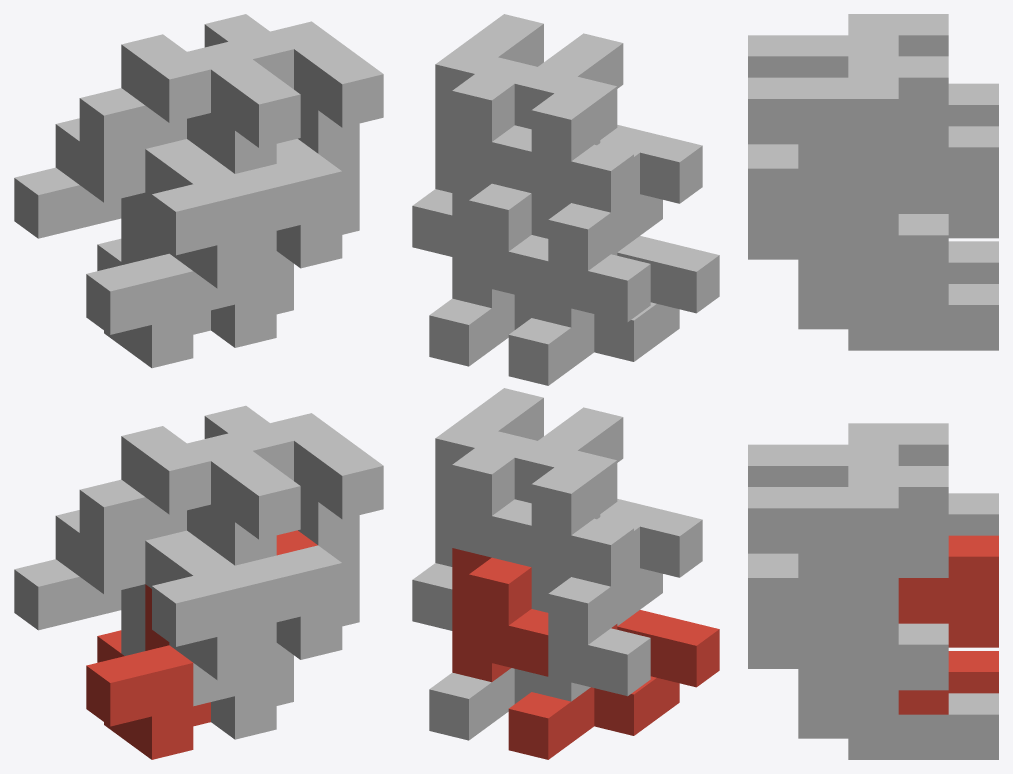
Rendered from tiling.obj.
3 renders of one model, left to right at view 1: azimuth 30°, elevation 25°; view 2: azimuth 150°, elevation 25°; view 3: azimuth 270°, elevation 25°, orthographic. The views are drawn at different scales.
Visible parts, largest first — view 1: copy_2_domain_4, copy_2_domain_2, copy_2_domain_1, copy_2_domain_3, copy_1_domain_2, copy_1_domain_4, copy_1_domain_8, copy_1_domain_6, copy_1_domain_1, copy_1_domain_3, copy_2_domain_6, copy_2_domain_8 (+4 smaller); view 2: copy_2_domain_2, copy_2_domain_4, copy_2_domain_6, copy_2_domain_8, copy_1_domain_3, copy_1_domain_1, copy_2_domain_1, copy_2_domain_3, copy_2_domain_5, copy_2_domain_7, copy_1_domain_2, copy_1_domain_4 (+4 smaller); view 3: copy_2_domain_8, copy_2_domain_6, copy_1_domain_6, copy_1_domain_8, copy_1_domain_7, copy_1_domain_5, copy_2_domain_5, copy_2_domain_7, copy_2_domain_2, copy_2_domain_4, copy_2_domain_3, copy_1_domain_3 (+2 smaller).
Part boxes in pixels (box(x1,y1,x2,y2)): copy_2_domain_4: box(79, 34, 300, 158); copy_2_domain_2: box(79, 426, 300, 550); copy_2_domain_1: box(14, 510, 234, 655); copy_2_domain_3: box(14, 118, 234, 264); copy_1_domain_2: box(152, 505, 276, 680); copy_1_domain_4: box(152, 113, 276, 288); copy_1_domain_8: box(235, 98, 359, 268); copy_1_domain_6: box(235, 489, 359, 659); copy_1_domain_1: box(86, 584, 210, 759); copy_1_domain_3: box(86, 193, 210, 368); copy_2_domain_6: box(204, 405, 383, 519); copy_2_domain_8: box(204, 14, 383, 127); copy_2_domain_2: box(514, 407, 633, 586); copy_2_domain_4: box(514, 33, 633, 212); copy_2_domain_6: box(435, 388, 543, 567); copy_2_domain_8: box(435, 14, 543, 193); copy_1_domain_3: box(508, 236, 719, 385); copy_1_domain_1: box(508, 610, 719, 759); copy_2_domain_1: box(531, 517, 650, 701); copy_2_domain_3: box(531, 143, 650, 327); copy_2_domain_5: box(452, 548, 548, 682); copy_2_domain_7: box(452, 174, 548, 308); copy_1_domain_2: box(594, 500, 702, 625); copy_1_domain_4: box(594, 126, 702, 251); copy_2_domain_8: box(748, 56, 948, 235); copy_2_domain_6: box(748, 466, 948, 644); copy_1_domain_6: box(748, 553, 948, 690); copy_1_domain_8: box(748, 144, 948, 280); copy_1_domain_7: box(798, 280, 998, 350); copy_1_domain_5: box(798, 690, 998, 759); copy_2_domain_5: box(898, 535, 998, 714); copy_2_domain_7: box(898, 126, 998, 304); copy_2_domain_2: box(748, 423, 948, 486); copy_2_domain_4: box(748, 14, 948, 77); copy_2_domain_3: box(948, 83, 998, 126); copy_1_domain_3: box(948, 241, 998, 283).
Bounding box in the file's own units: 6 × 15 × 5.
